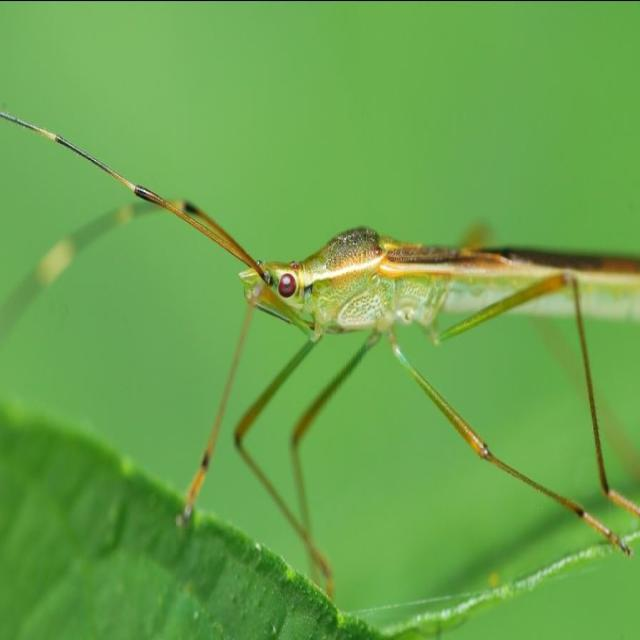walang sangit pada tanaman padi: (1, 108, 638, 606)
